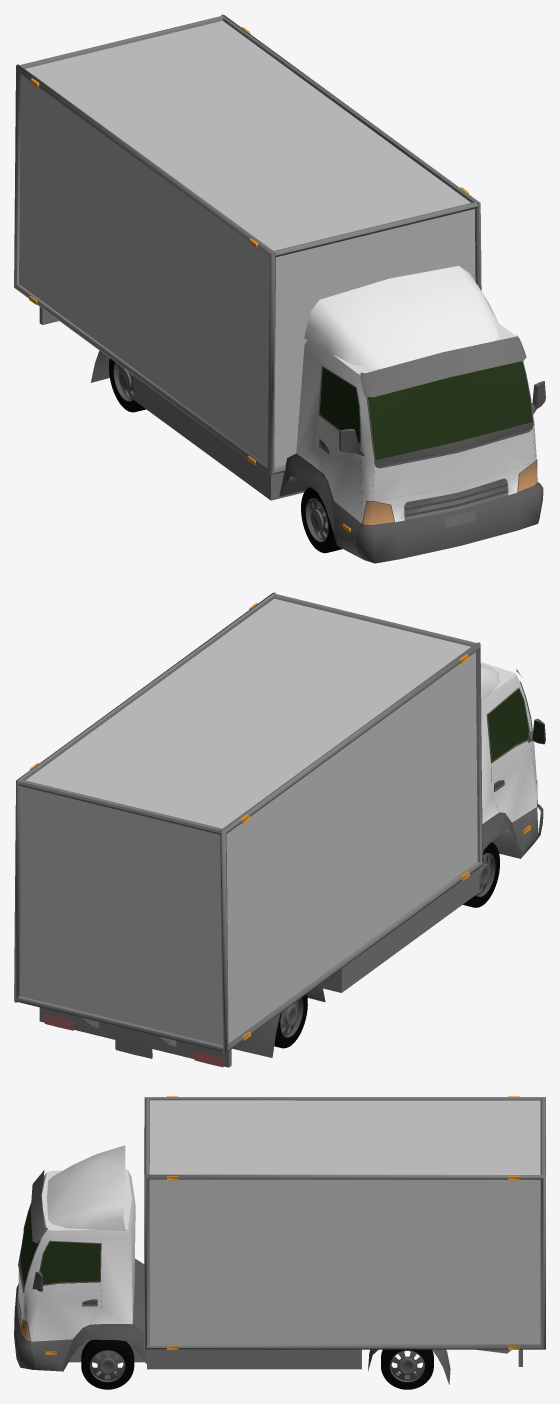
File: car22.glb
3 views of the same model, one above another, from view 1: azimuth 30°, elevation 25°; view 2: azimuth 150°, elevation 25°; view 3: azimuth 270°, elevation 25° (orthographic). The views are drawn at different scales.
Visible parts, largest first — view 1: obj0~07___Default_materialGroup_0, VehicleBody, ~??_23_materialGroup_1, ~??_15_materialGroup_10, ~Material__32_materialGroup_17, ~??_9_materialGroup_15, obj57~??_9_materialGroup_13, ~??_3_materialGroup_3, ~??_2_materialGroup_16, ~??_10_materialGroup_9, obj37~??_21_materialGroup_12; view 2: obj0~07___Default_materialGroup_0, ~??_23_materialGroup_1, VehicleBody, ~Material__32_materialGroup_17, ~??_15_materialGroup_10, ~??_16_materialGroup_2, ~??_3_materialGroup_3, ~??_9_materialGroup_15, ~??_10_materialGroup_9, ~??_5_materialGroup_4, obj37~??_21_materialGroup_12; view 3: ~07___Default_materialGroup_6, obj0~07___Default_materialGroup_0, VehicleBody, ~??_23_materialGroup_1, ~??_15_materialGroup_10, ~Material__32_materialGroup_17, ~??_21_materialGroup_11, ~??_9_materialGroup_15, ~??_10_materialGroup_9, ~??_16_materialGroup_2.
Part boxes in pixels (<box>): obj0~07___Default_materialGroup_0: <box>19,20,475,467</box>; VehicleBody: <box>296,266,536,523</box>; ~??_23_materialGroup_1: <box>14,14,481,500</box>; ~??_15_materialGroup_10: <box>118,361,545,563</box>; ~Material__32_materialGroup_17: <box>319,361,532,460</box>; ~??_9_materialGroup_15: <box>319,335,526,559</box>; obj57~??_9_materialGroup_13: <box>360,352,449,397</box>; ~??_3_materialGroup_3: <box>91,350,475,527</box>; ~??_2_materialGroup_16: <box>362,461,537,524</box>; ~??_10_materialGroup_9: <box>113,362,328,542</box>; obj37~??_21_materialGroup_12: <box>301,487,342,553</box>; obj0~07___Default_materialGroup_0: <box>20,598,477,1045</box>; ~??_23_materialGroup_1: <box>14,592,482,1067</box>; VehicleBody: <box>480,662,536,823</box>; ~Material__32_materialGroup_17: <box>488,689,544,761</box>; ~??_15_materialGroup_10: <box>281,681,545,1033</box>; ~??_16_materialGroup_2: <box>232,864,490,1057</box>; ~??_3_materialGroup_3: <box>115,830,520,1058</box>; ~??_9_materialGroup_15: <box>495,783,538,858</box>; ~??_10_materialGroup_9: <box>280,781,503,1037</box>; ~??_5_materialGroup_4: <box>44,1014,223,1067</box>; obj37~??_21_materialGroup_12: <box>463,842,499,907</box>; ~07___Default_materialGroup_6: <box>149,1179,540,1344</box>; obj0~07___Default_materialGroup_0: <box>149,1100,540,1174</box>; VehicleBody: <box>18,1145,135,1341</box>; ~??_23_materialGroup_1: <box>31,1097,545,1369</box>; ~??_15_materialGroup_10: <box>14,1203,422,1379</box>; ~Material__32_materialGroup_17: <box>20,1205,100,1285</box>; ~??_21_materialGroup_11: <box>81,1339,433,1389</box>; ~??_9_materialGroup_15: <box>18,1195,96,1371</box>; ~??_10_materialGroup_9: <box>83,1300,424,1382</box>; ~??_16_materialGroup_2: <box>99,1349,450,1384</box>.
Size of the model in its own units: 2.7 by 3.43 by 7.42.
